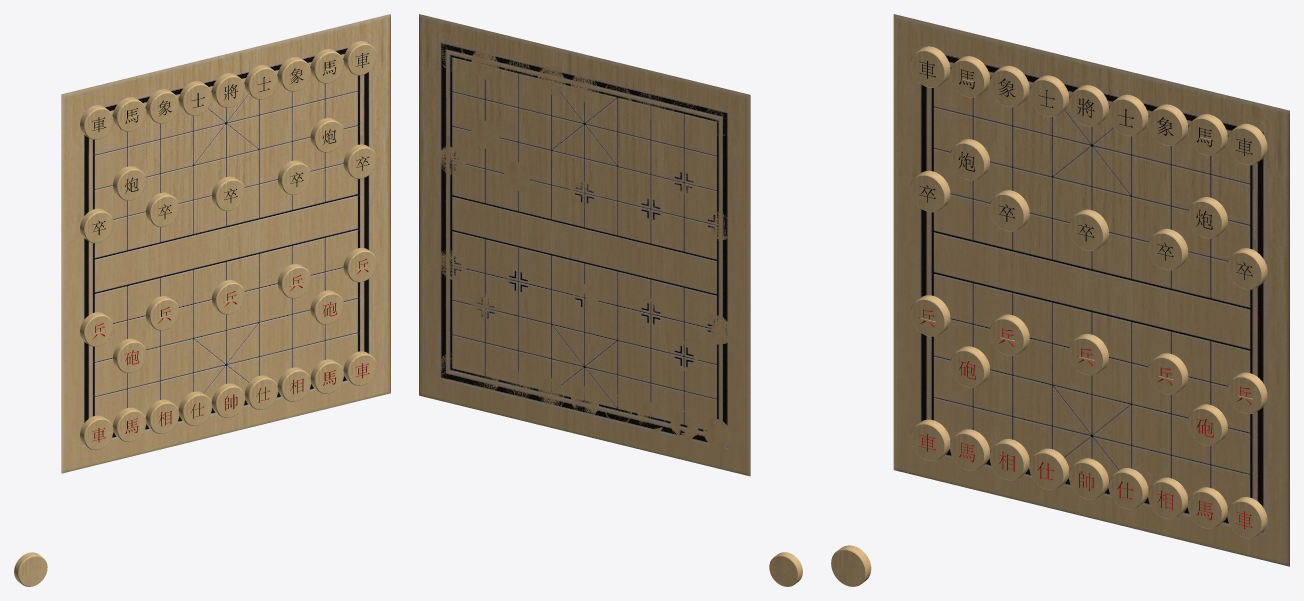
File: cheese.glb
The picture shows the model from 3 angles, left to right: view 1: azimuth 30°, elevation 25°; view 2: azimuth 150°, elevation 25°; view 3: azimuth 330°, elevation 25°; orthographic projection. The views are drawn at different scales.
Visible parts, largest first — view 1: 0, 10, 1, 21, 22, 13, 32, 30, 32.002, 2, 12, 16 (+22 smaller); view 2: 0, 32.002, 8, 21, 11, 6, 15, 26, 36, 5, 16, 25 (+3 smaller); view 3: 0, 6, 26, 1, 3, 23, 16, 35, 32, 24, 8, 36 (+22 smaller).
Part boxes in pixels (x1=…): 0: x1=61, y1=14, x2=390, y2=473; 10: x1=113, y1=166, x2=146, y2=200; 1: x1=80, y1=105, x2=113, y2=139; 21: x1=80, y1=415, x2=113, y2=450; 22: x1=113, y1=407, x2=146, y2=442; 13: x1=146, y1=192, x2=179, y2=227; 32: x1=80, y1=312, x2=113, y2=346; 30: x1=113, y1=338, x2=146, y2=373; 32.002: x1=14, y1=552, x2=47, y2=586; 2: x1=113, y1=97, x2=146, y2=131; 12: x1=80, y1=208, x2=113, y2=243; 16: x1=343, y1=144, x2=376, y2=178; 0: x1=419, y1=14, x2=750, y2=476; 32.002: x1=769, y1=552, x2=802, y2=586; 8: x1=471, y1=49, x2=499, y2=79; 21: x1=703, y1=418, x2=731, y2=448; 11: x1=471, y1=119, x2=499, y2=149; 6: x1=537, y1=66, x2=565, y2=96; 15: x1=504, y1=162, x2=532, y2=191; 26: x1=537, y1=378, x2=565, y2=408; 36: x1=438, y1=250, x2=466, y2=279; 5: x1=570, y1=74, x2=598, y2=104; 16: x1=438, y1=145, x2=466, y2=175; 25: x1=570, y1=386, x2=598, y2=416; 0: x1=893, y1=14, x2=1289, y2=566; 6: x1=1108, y1=94, x2=1148, y2=136; 26: x1=1108, y1=468, x2=1148, y2=509; 1: x1=910, y1=46, x2=950, y2=87; 3: x1=989, y1=65, x2=1029, y2=107; 23: x1=989, y1=439, x2=1029, y2=480; 16: x1=1227, y1=248, x2=1267, y2=289; 35: x1=1148, y1=353, x2=1188, y2=394; 32: x1=910, y1=295, x2=950, y2=336; 24: x1=1029, y1=448, x2=1069, y2=490; 8: x1=1187, y1=114, x2=1227, y2=155; 36: x1=1227, y1=372, x2=1267, y2=413.
Bounding box in the file's own units: 22.9 × 27.9 × 0.5.
Materials: 6 (3 with a texture image).
